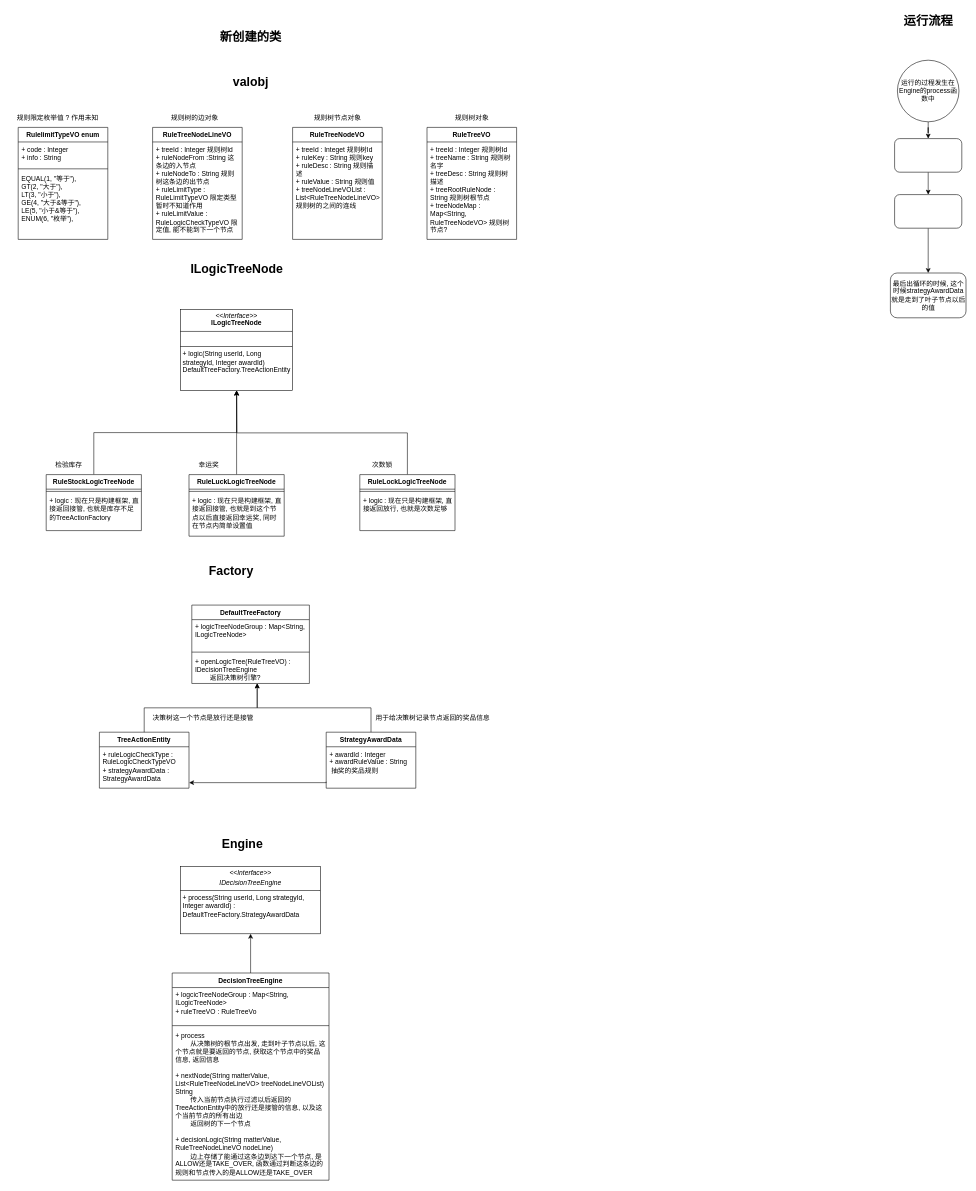
This 976x1191 diagram has some shape labels left out. The shapes that lost their labels are listed below. From the top down, each one's centre as x and y in pixels, then its label:
At point 928,155: "获取根节点以及这颗树中的所有节点".
At point 928,211: "不断地进入下一个节点, 并在其中更新返回的strategyAwardData的数据".
